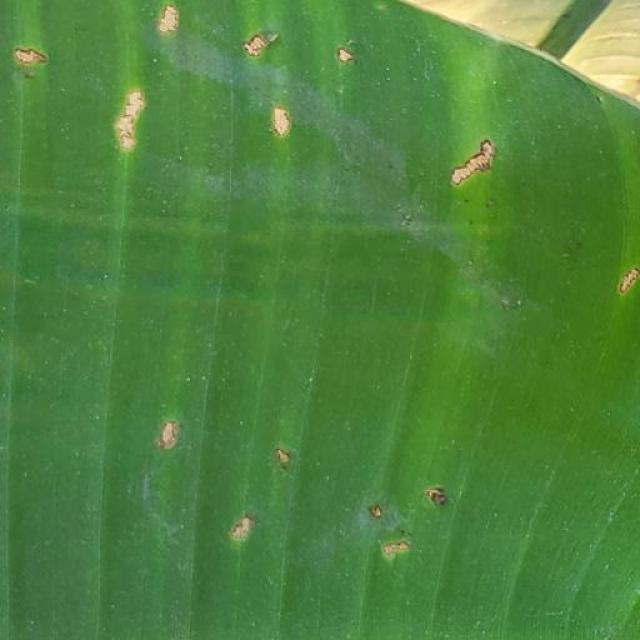Black_rot: (139, 412, 464, 590), (240, 22, 362, 153), (419, 124, 558, 214), (98, 61, 176, 173), (3, 20, 64, 96), (146, 6, 212, 50), (607, 246, 640, 303)
